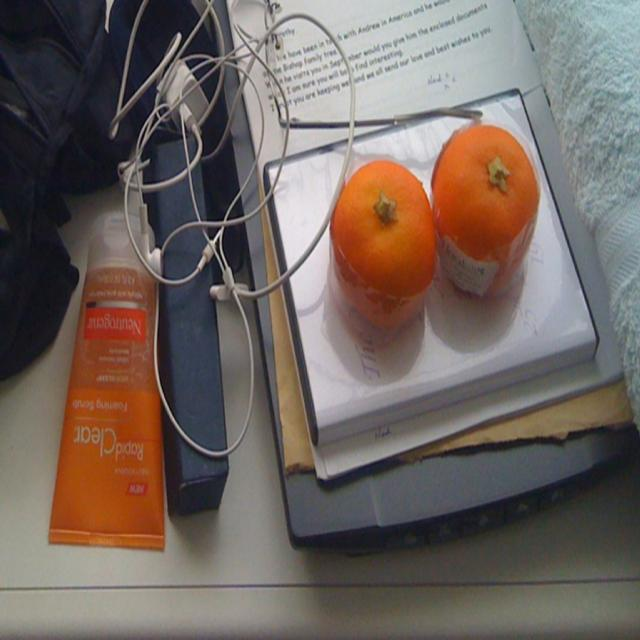Orange: (432, 123, 540, 290), (340, 150, 442, 316)
